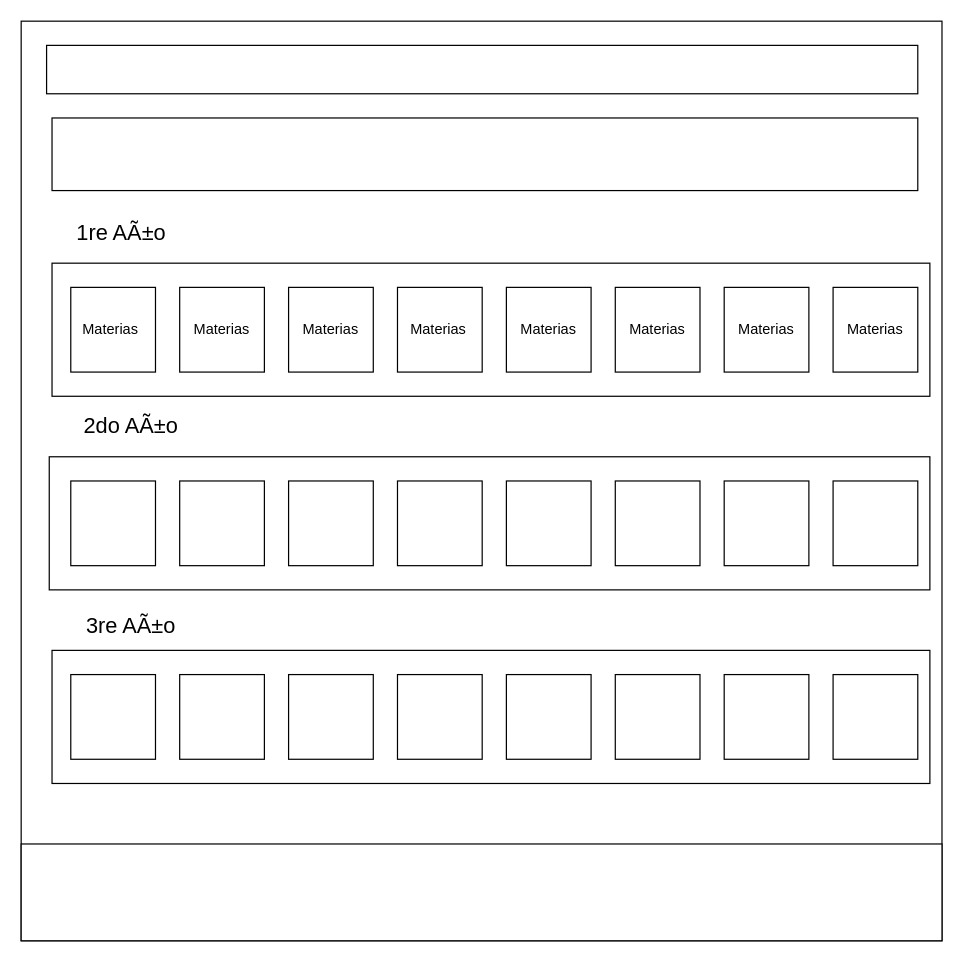
Some shapes in this 963 by 962 pixel diagram are drawn without their labels. The centre of each missing label's shape, as x and y in pixels:
"Banner" belongs at pixel 484 154.
"footer" belongs at pixel 481 892.
"Header" belongs at pixel 481 69.
